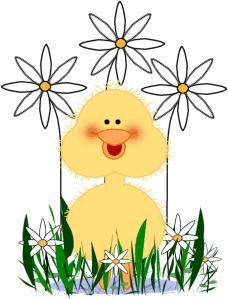bird: (55, 85, 170, 290)
